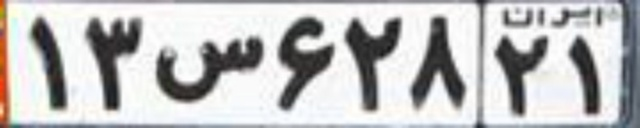1: (26, 17, 71, 110), (564, 34, 610, 114)
2: (492, 34, 559, 114), (343, 13, 397, 112)
3: (86, 16, 143, 111)
6: (269, 15, 337, 108)
8: (409, 16, 474, 108)
sin: (152, 34, 268, 104)
